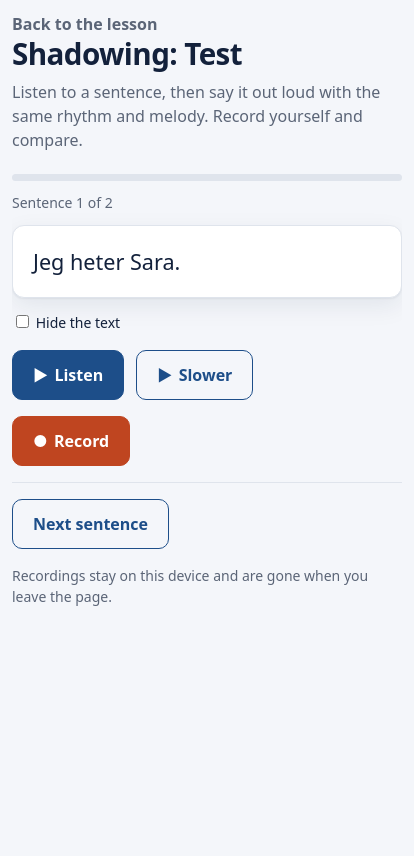
Scenario: Shadowing › can hide the text to practise by ear
Click the checkbox labelled "Hide the text" at (22, 321), box [16,315,29,328]
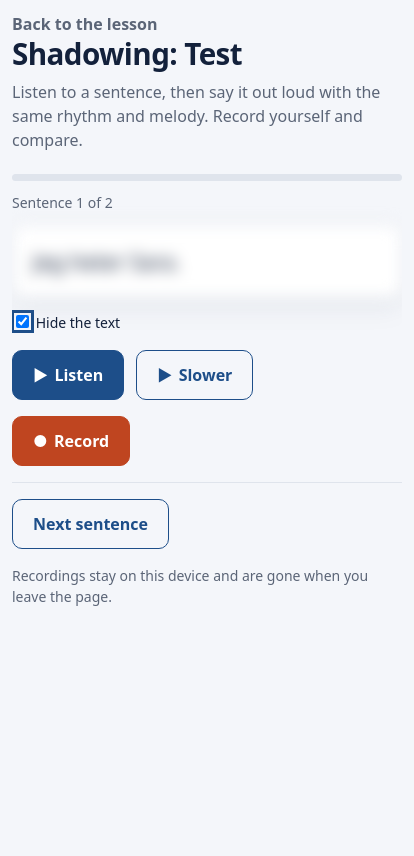
expect the text with test id "shadow-line" has class "hidden-line": met, box [12,224,402,298]
